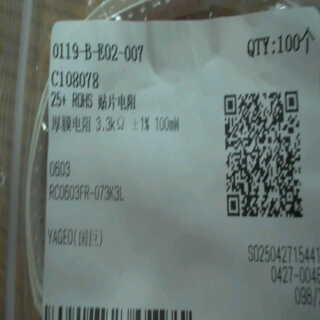3.3kO: (93, 114, 130, 135)
